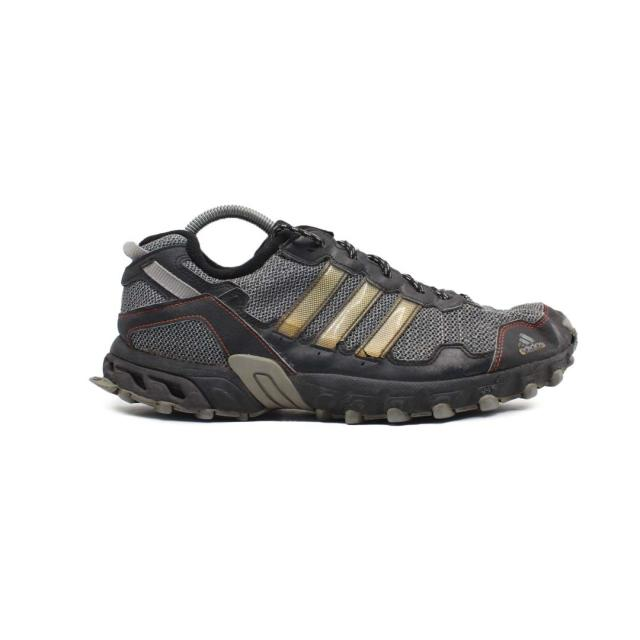heel: (119, 232, 213, 361)
midsole: (90, 334, 578, 427)
uppersole: (212, 222, 575, 375)
